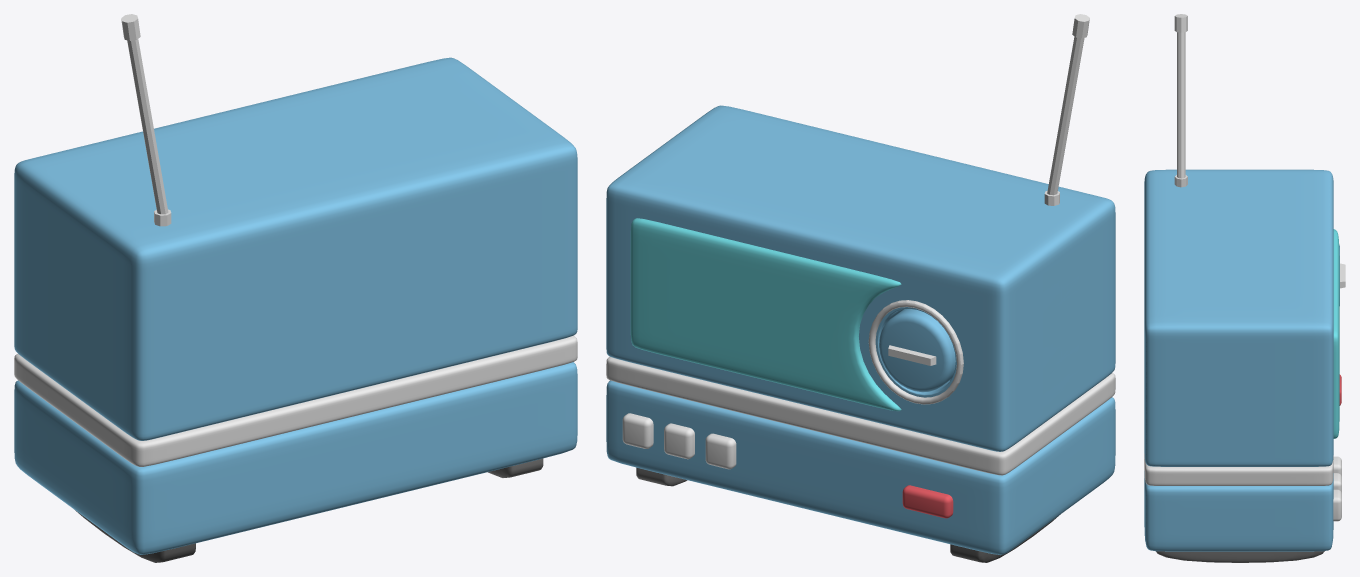
The model's file is radio.fbx.
3 views of the same model, side by side, from view 1: azimuth 30°, elevation 25°; view 2: azimuth 150°, elevation 25°; view 3: azimuth 270°, elevation 25° (orthographic). The views are drawn at different scales.
Parts seen in each view (by area): view 1: Cube, Cube.007, Cube.006, Cylinder.001, Cube.008; view 2: Cube, Cube.007, Cube.001, Cube.006, Cylinder, Cylinder.001, Cube.010, Cube.005, Cube.002, Cube.004, Cube.003, Cube.008; view 3: Cube, Cube.007, Cube.006, Cylinder.001, Cube.009, Cube.001, Cube.002.
Part boxes in pixels (bbox=[...]): Cube: bbox=[14, 57, 577, 440]; Cube.007: bbox=[14, 362, 577, 554]; Cube.006: bbox=[14, 335, 577, 466]; Cylinder.001: bbox=[121, 14, 171, 226]; Cube.008: bbox=[75, 510, 195, 562]; Cube: bbox=[606, 105, 1115, 451]; Cube.007: bbox=[606, 380, 1115, 555]; Cube.001: bbox=[630, 218, 901, 411]; Cube.006: bbox=[606, 356, 1115, 475]; Cylinder: bbox=[879, 309, 955, 392]; Cylinder.001: bbox=[1044, 14, 1089, 205]; Cube.010: bbox=[868, 300, 963, 404]; Cube.005: bbox=[902, 485, 953, 518]; Cube.002: bbox=[622, 413, 653, 448]; Cube.004: bbox=[705, 433, 736, 469]; Cube.003: bbox=[664, 423, 694, 459]; Cube.008: bbox=[950, 514, 1060, 562]; Cube: bbox=[1144, 169, 1333, 466]; Cube.007: bbox=[1144, 471, 1333, 551]; Cube.006: bbox=[1144, 454, 1333, 485]; Cylinder.001: bbox=[1174, 14, 1187, 187]; Cube.009: bbox=[1156, 551, 1324, 562]; Cube.001: bbox=[1333, 229, 1339, 438]; Cube.002: bbox=[1333, 489, 1341, 521].
Bounding box in the file's own units: 16 × 18.9 × 8.5.
